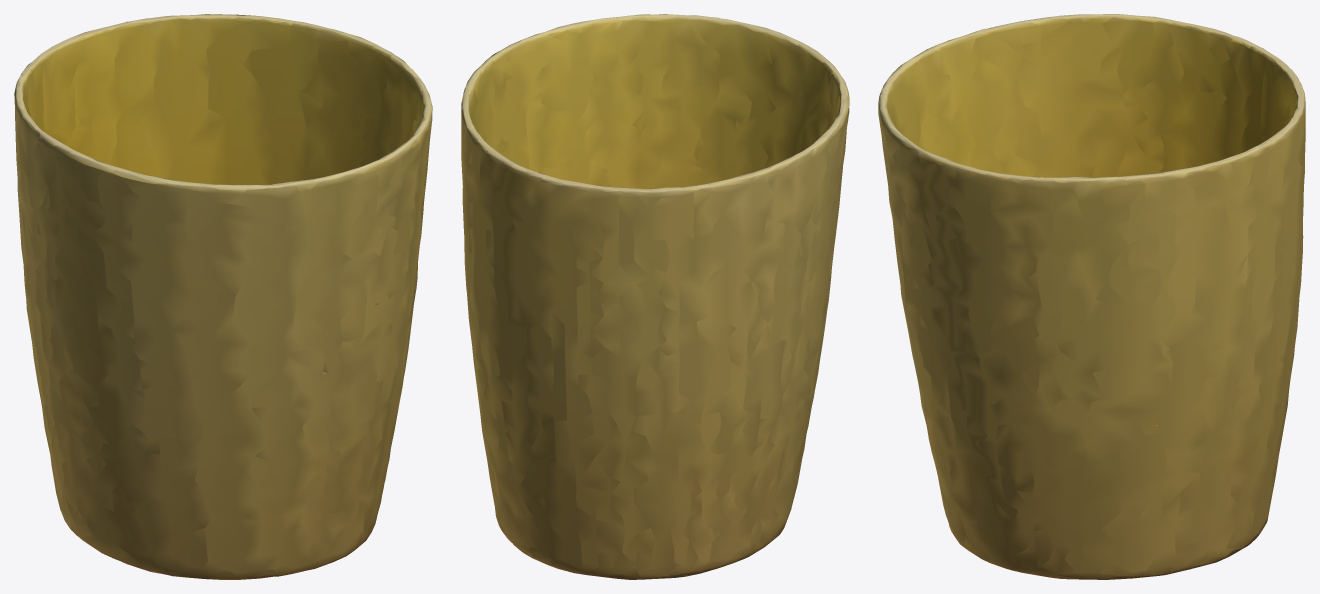
Rendered from 0005_mask_006_yellow_cup.glb.
3 renders of one model, left to right at view 1: azimuth 30°, elevation 25°; view 2: azimuth 150°, elevation 25°; view 3: azimuth 270°, elevation 25°, orthographic. The views are drawn at different scales.
Visible parts, largest first — view 1: mask_006_object; view 2: mask_006_object; view 3: mask_006_object.
Boxes of the visible parts, bbox=[...] form: mask_006_object: bbox=[14, 14, 432, 579]; mask_006_object: bbox=[461, 14, 849, 579]; mask_006_object: bbox=[878, 14, 1305, 579].
Size of the model in its own units: 0.1124 by 0.1317 by 0.1202.
